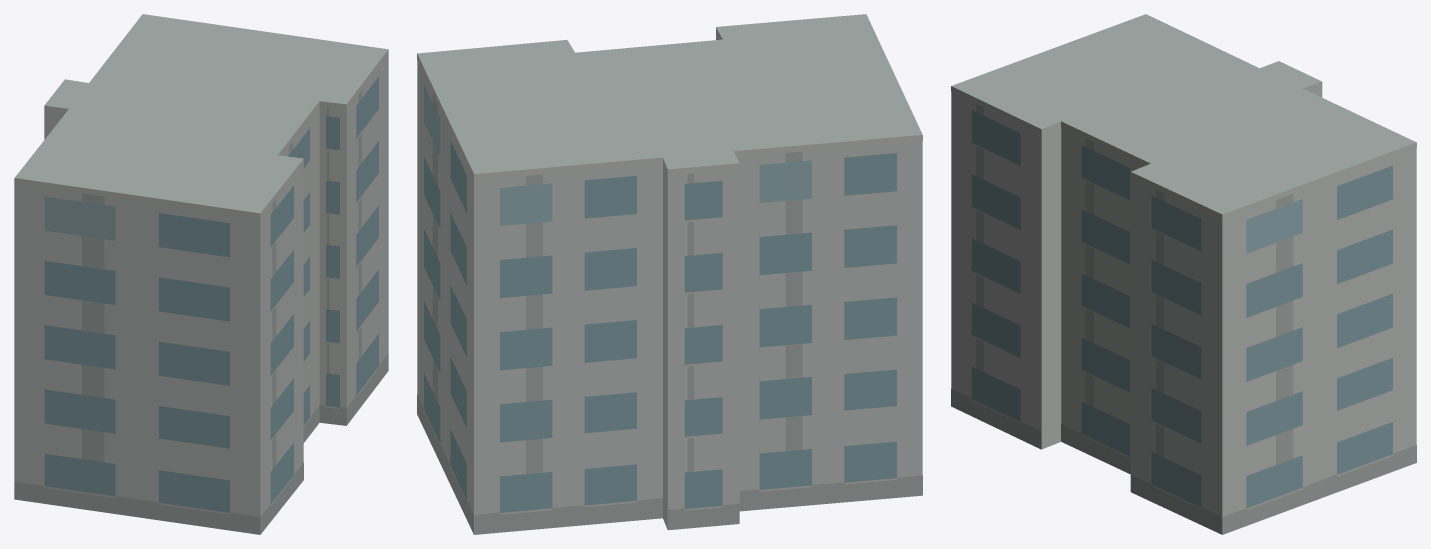
Rendered from survey-upis-32885906.glb.
3 renders of one model, left to right at view 1: azimuth 30°, elevation 25°; view 2: azimuth 150°, elevation 25°; view 3: azimuth 270°, elevation 25°, orthographic. The views are drawn at different scales.
Visible parts, largest first — view 1: survey-upis-32885906.tmp; view 2: survey-upis-32885906.tmp; view 3: survey-upis-32885906.tmp.
Boxes of the visible parts, bbox=[...] form: survey-upis-32885906.tmp: bbox=[14, 14, 388, 534]; survey-upis-32885906.tmp: bbox=[417, 14, 922, 534]; survey-upis-32885906.tmp: bbox=[951, 14, 1416, 534].
Bounding box in the file's own units: 18.8 × 14 × 18.45.
